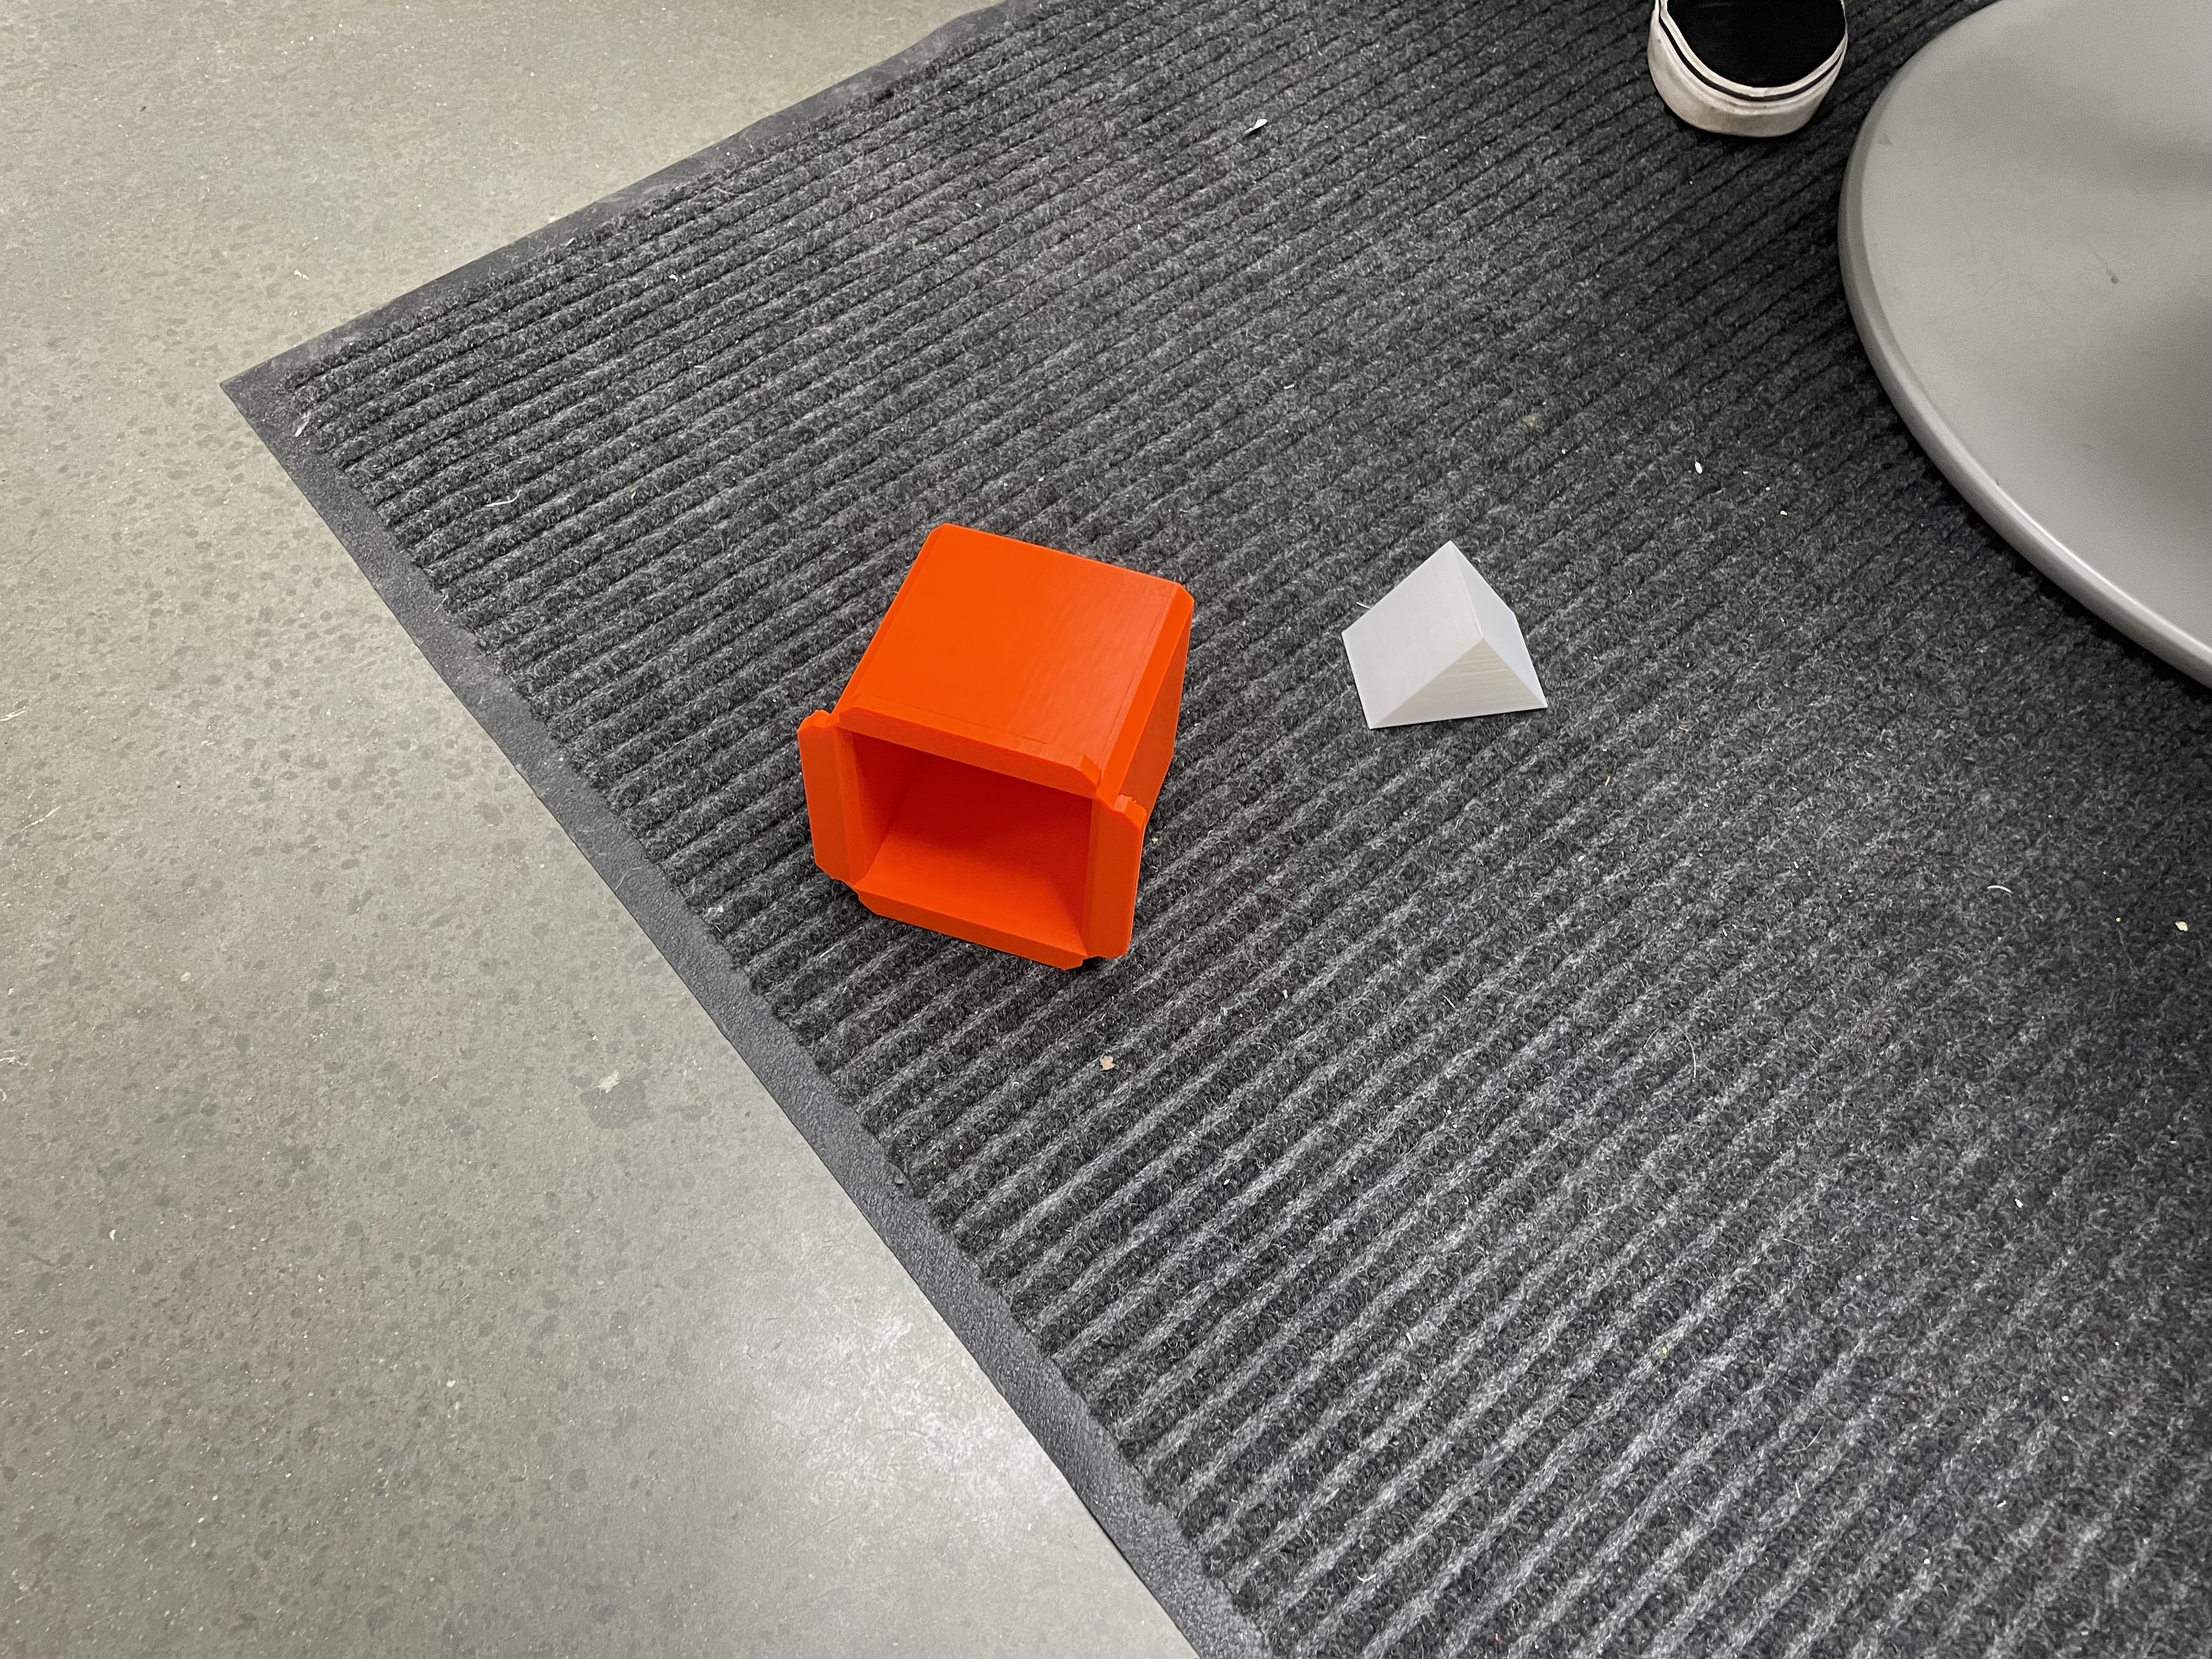payload1: (780, 512, 1221, 978)
payload2: (1324, 521, 1587, 781)
